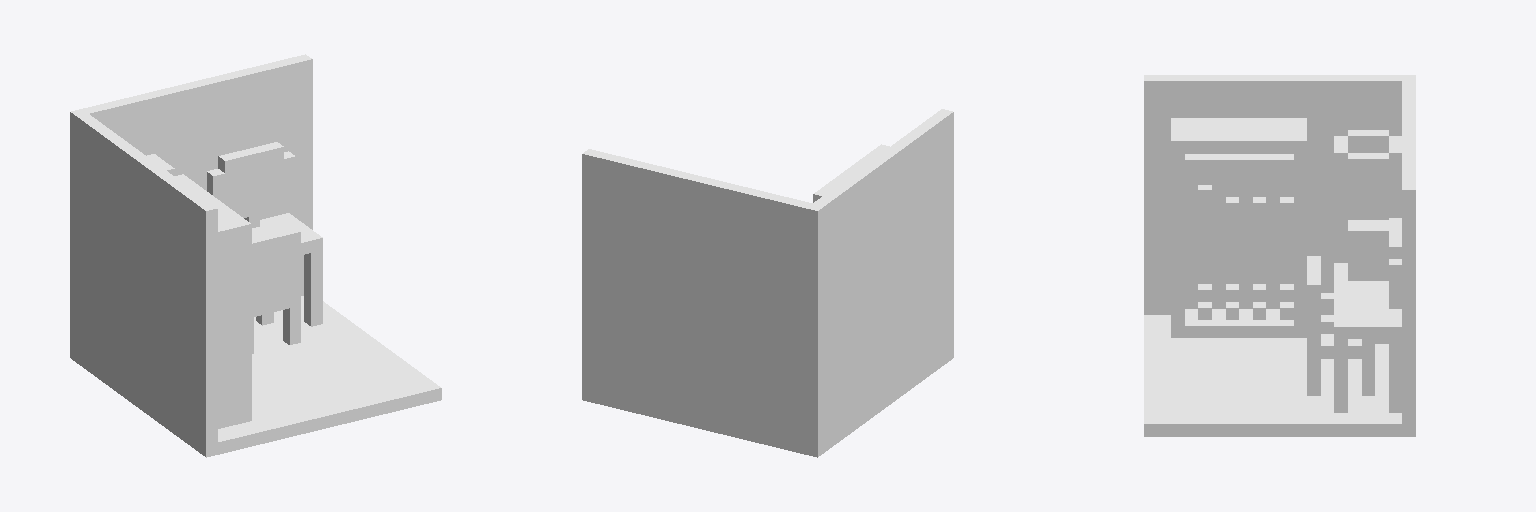
File: tony_bedroom.obj
The picture shows the model from 3 angles: view 1: azimuth 30°, elevation 25°; view 2: azimuth 150°, elevation 25°; view 3: azimuth 270°, elevation 25°; orthographic projection.
Visible parts, largest first — view 1: tony_bedroom; view 2: tony_bedroom; view 3: tony_bedroom.
Part boxes in pixels (x1,y1,x2,y2): tony_bedroom: (70,54,441,457); tony_bedroom: (582,109,953,457); tony_bedroom: (1144,75,1415,436).
Size of the model in its own units: 20 by 20 by 20.